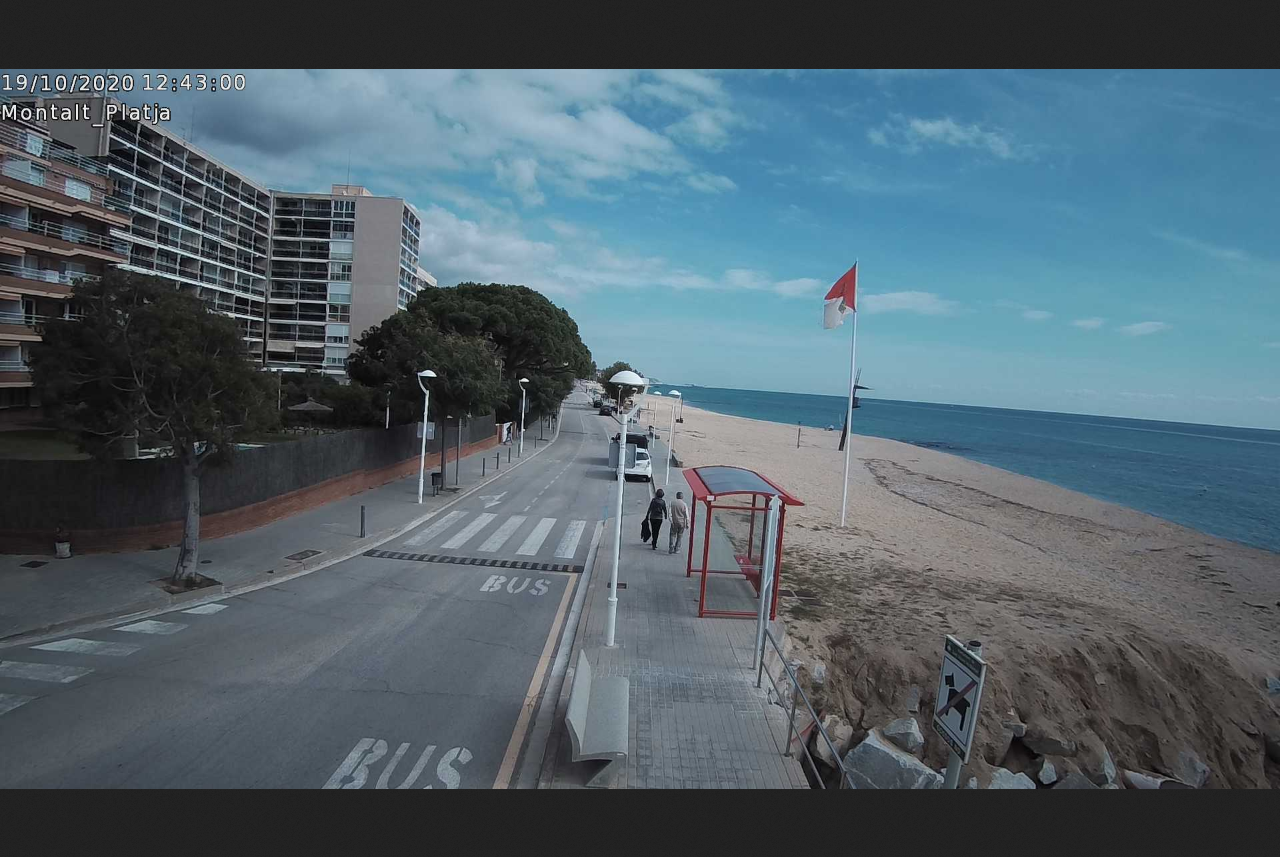maybe: (822, 263, 856, 332)
